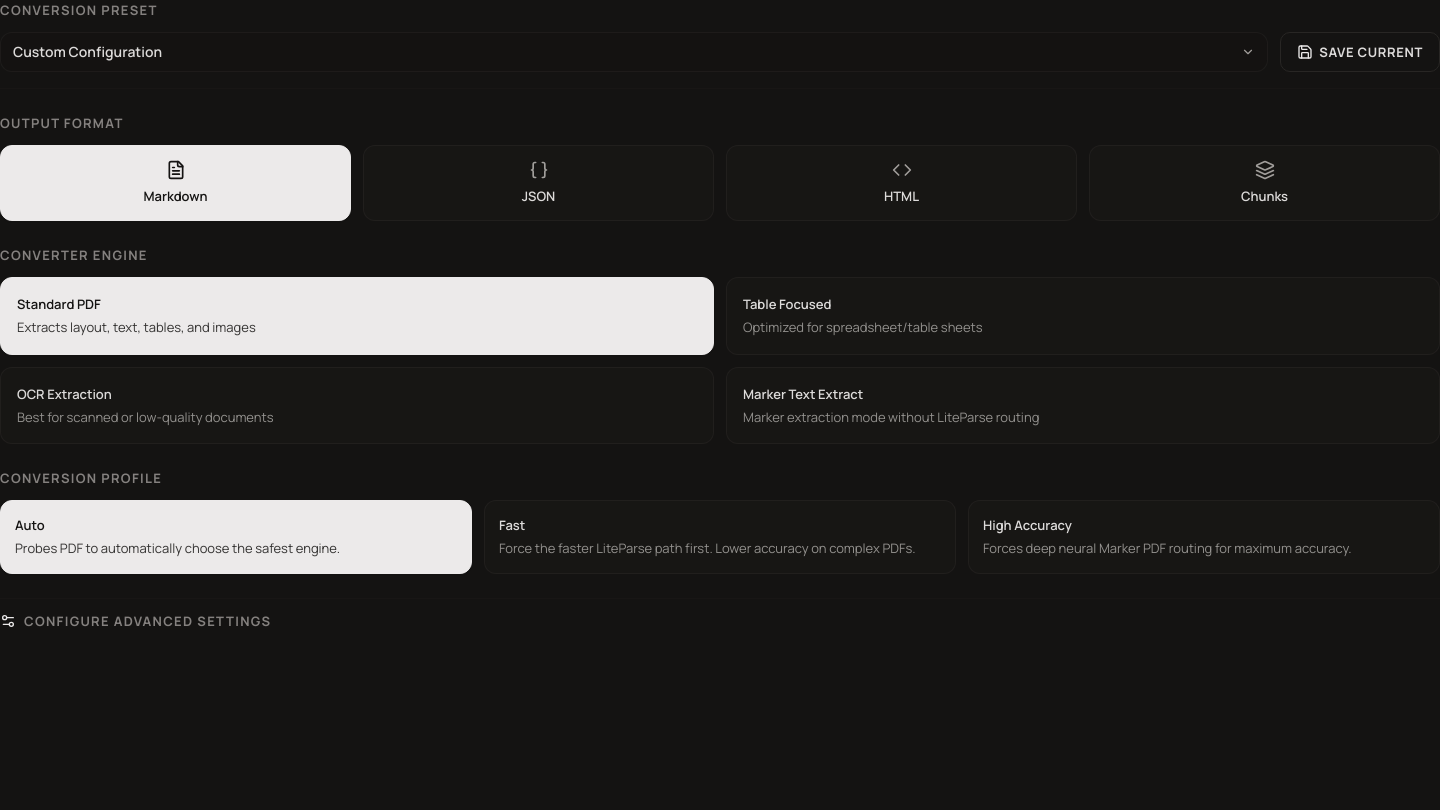
Scenario: ConversionOptions image understanding controls › disables understanding modes when no vision-capable model is configured
What coordinates should you click on to do the following:
click the button "Configure Advanced Settings"
I would click on:
 (136, 620)
Its box is [0,610,272,630].
(page scrolled)
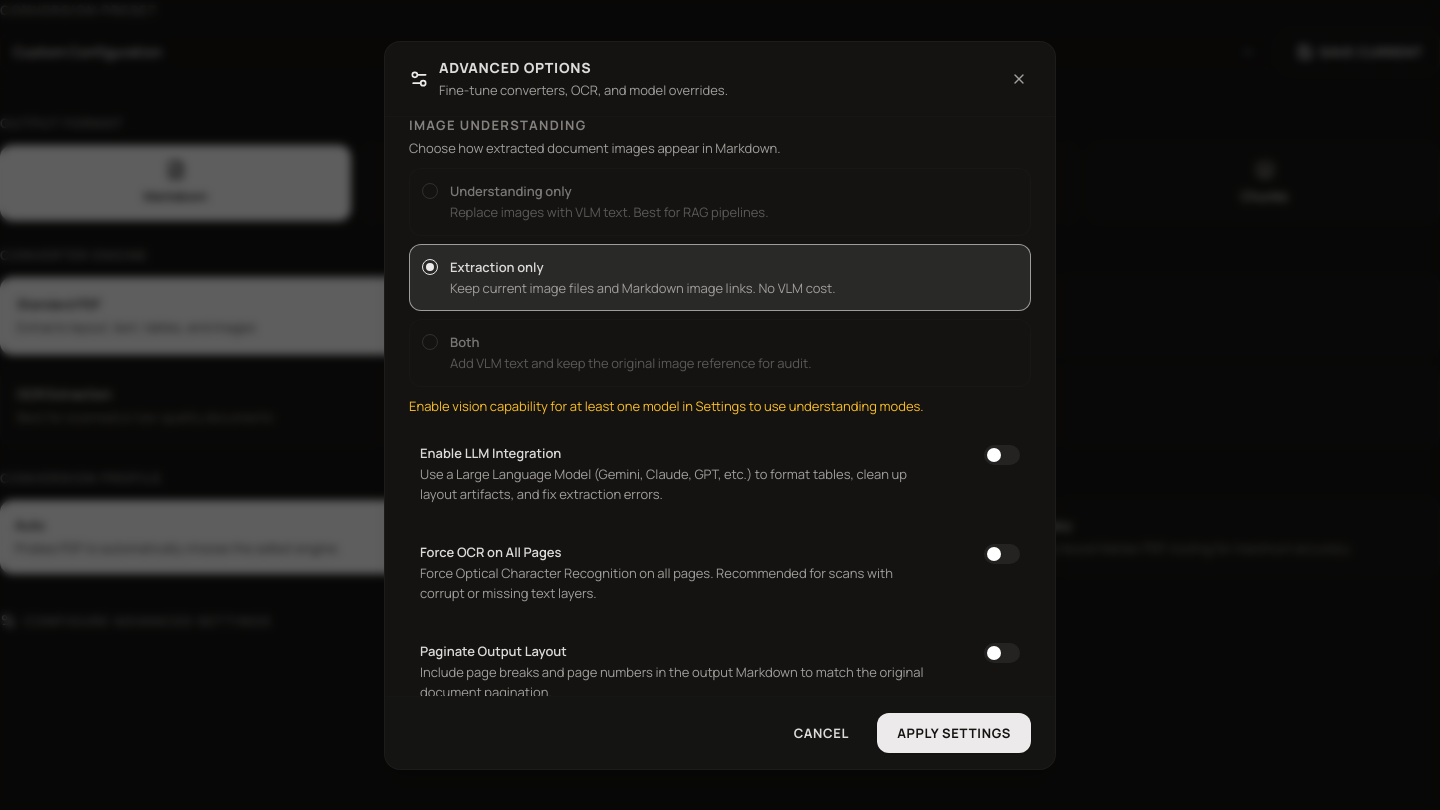
expect the radio button labelled "Understanding only" is disabled: met, box [409,168,1031,236]
expect the radio button labelled "Both" is disabled: met, box [409,319,1031,387]
expect the radio button labelled "Extraction only" is enabled: met, box [409,244,1031,311]
